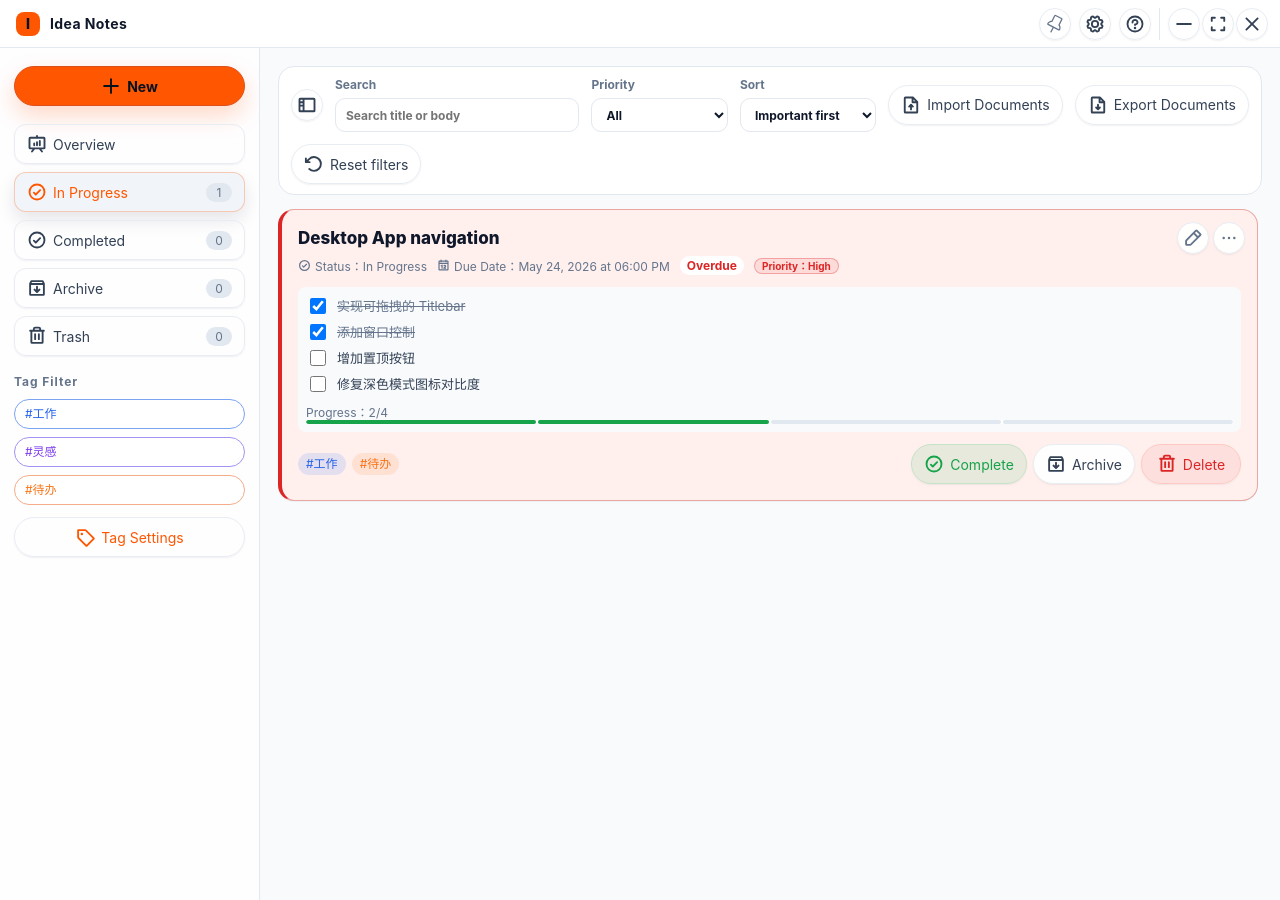
Scenario: App duplicate flow › en 复制笔记使用当前语言标题后缀
Check: the button "Desktop App navigation" is shown, box [298,228,1181,248]
Click the button named "More actions" at (1229, 238), box [1213,222,1245,254]
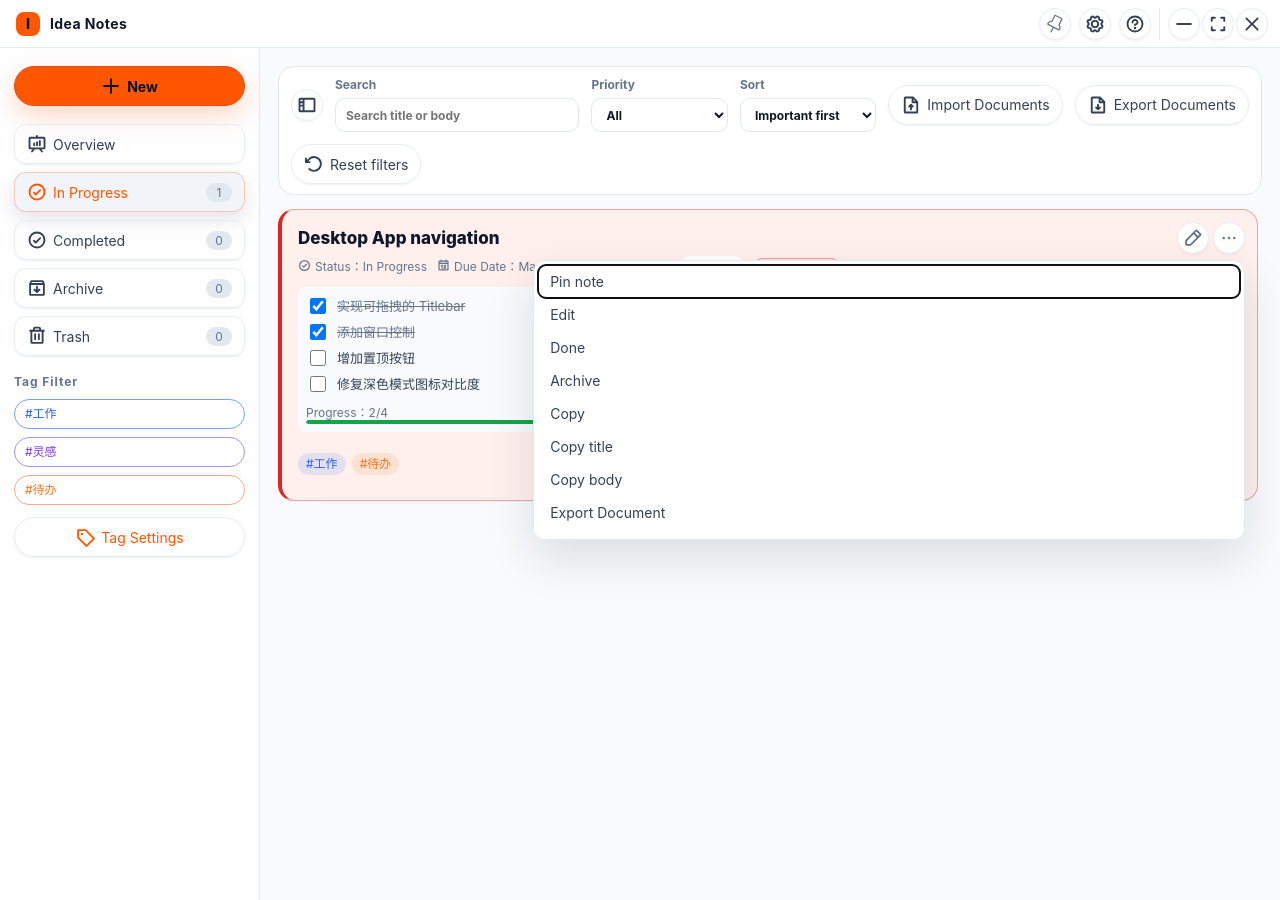
Click the menu item "Copy" at (568, 414), box [538,397,1240,430]
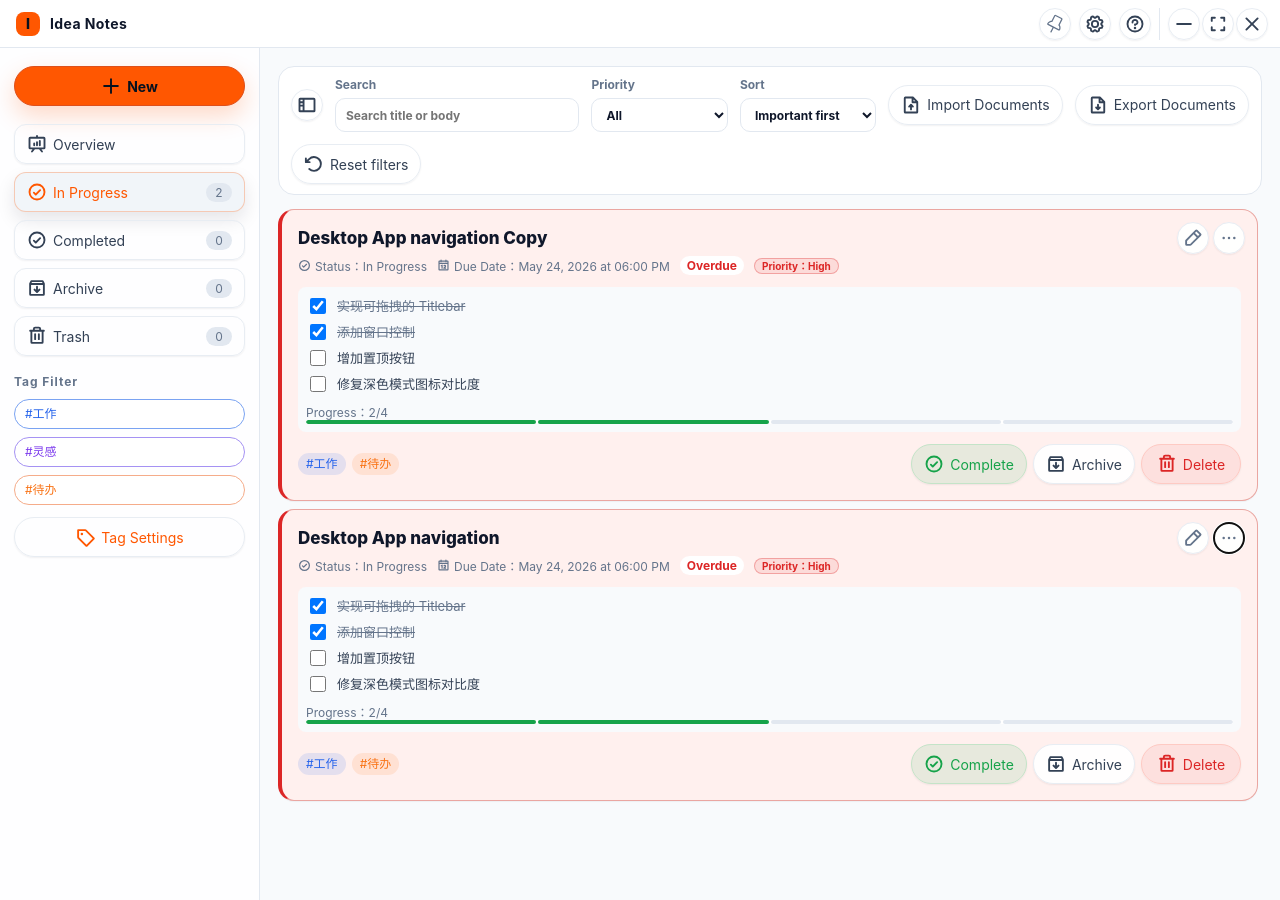
Check: the button "Desktop App navigation Copy" is shown, box [298,228,1181,248]
